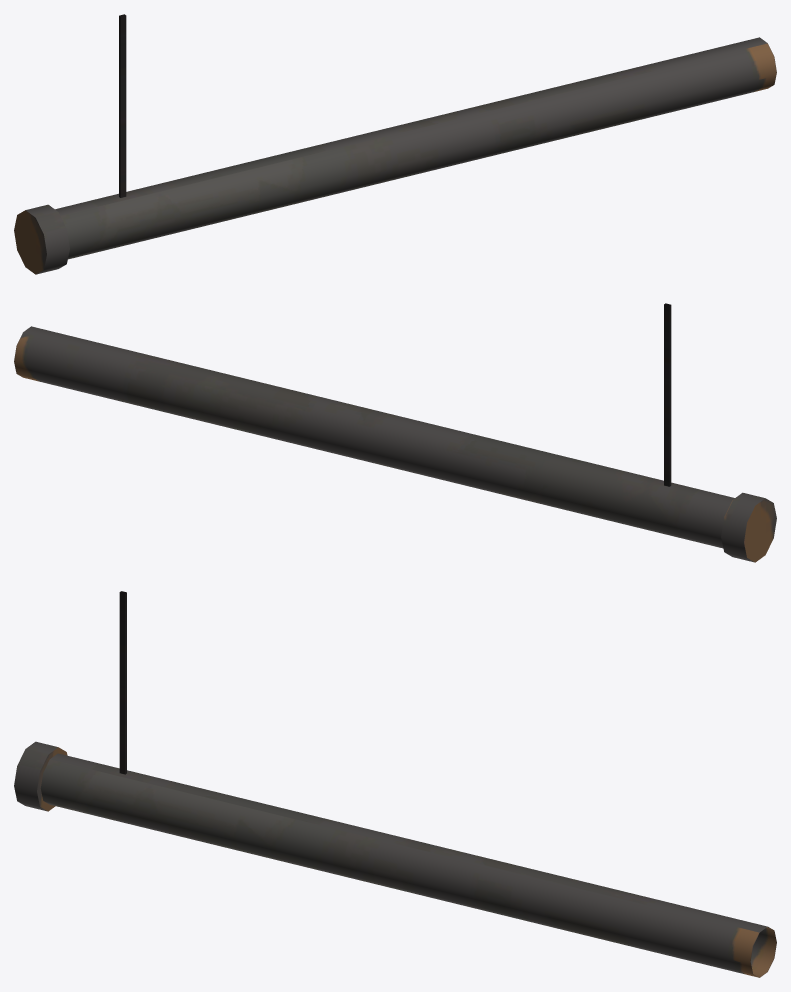
Rendered from ceiling_pipe_64.glb.
3 views of the same model, one above another, from view 1: azimuth 30°, elevation 25°; view 2: azimuth 150°, elevation 25°; view 3: azimuth 330°, elevation 25° (orthographic).
Visible parts, largest first — view 1: ceiling_pipe_64; view 2: ceiling_pipe_64; view 3: ceiling_pipe_64.
Part boxes in pixels (x1,y1,x2,y2): ceiling_pipe_64: (14,14,776,274); ceiling_pipe_64: (14,303,776,562); ceiling_pipe_64: (14,591,776,977).
Bounding box in the file's own units: 1.22 × 0.3691 × 0.0953.
Materials: 1 (1 with a texture image).
